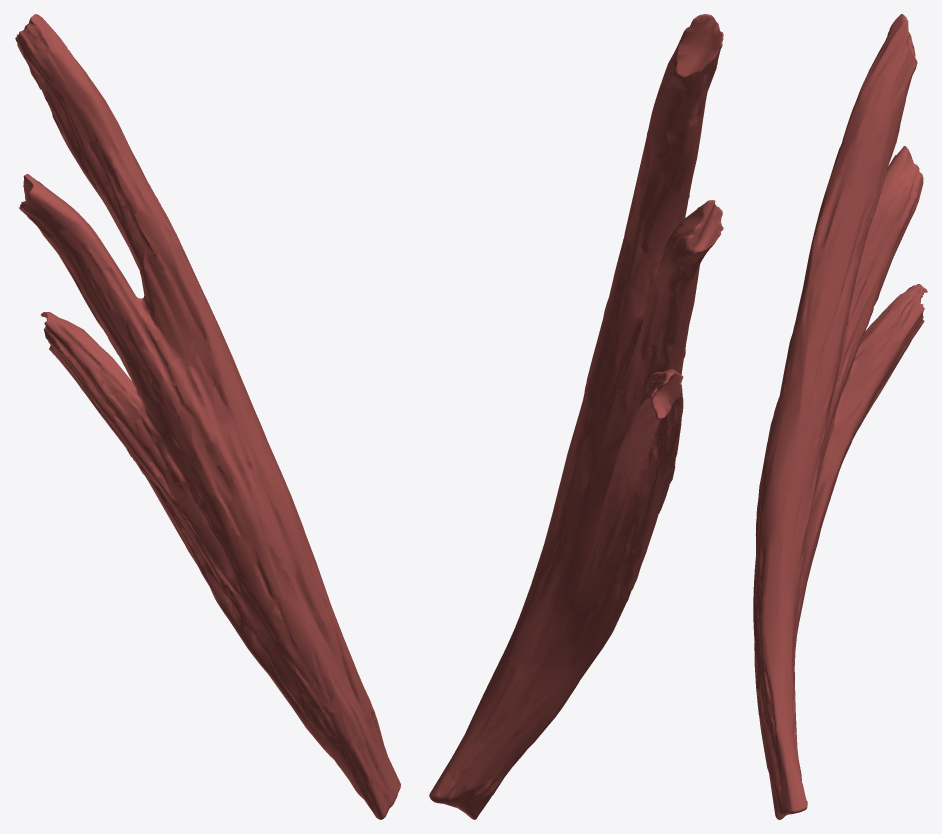
File: FMA13393.glb
3 views of the same model, side by side, from view 1: azimuth 30°, elevation 25°; view 2: azimuth 150°, elevation 25°; view 3: azimuth 270°, elevation 25° (orthographic). The views are drawn at different scales.
Visible parts, largest first — view 1: FMA13393; view 2: FMA13393; view 3: FMA13393.
Part boxes in pixels (<box>): FMA13393: <box>15,14,400,819</box>; FMA13393: <box>429,14,723,819</box>; FMA13393: <box>753,14,927,819</box>.
Size of the model in its own units: 0.0325 by 0.0798 by 0.0182.
